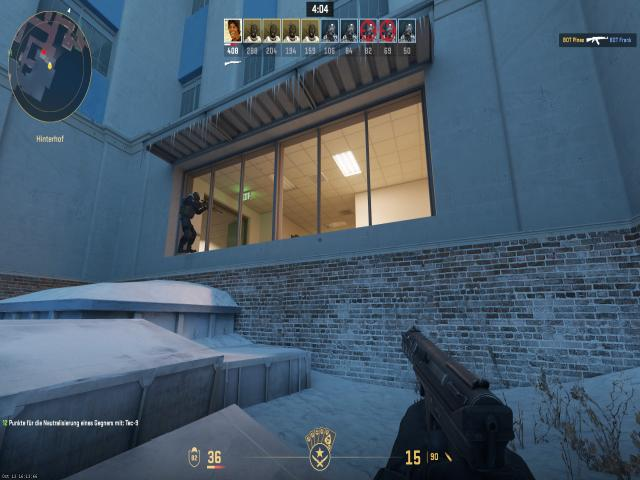CT-Head: (180, 190, 198, 251), (192, 192, 200, 202)
